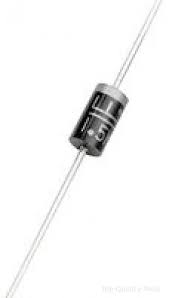diode: (41, 57, 142, 188)
